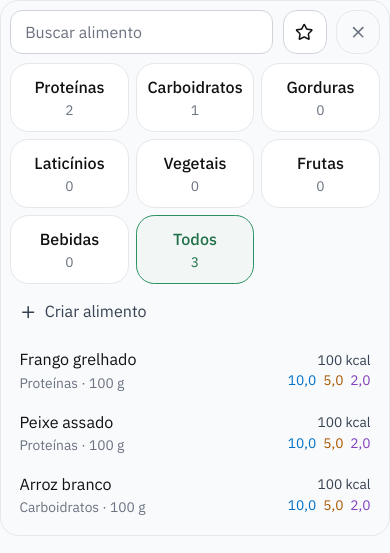
FoodPicker — cartões de categoria › contam por categoria, marcam a escolhida, e Todos volta
Expected: the search field named "Buscar alimento para adicionar" is enabled, top-left (10, 10), bottom-right (274, 54)
Expected: the button "Todos 3" is shown, top-left (136, 215), bottom-right (254, 284)
What coordinates should you click on to do the following:
click the button "Proteínas 2"
I would click on:
 (70, 98)
Its box is top-left (10, 63), bottom-right (129, 132).
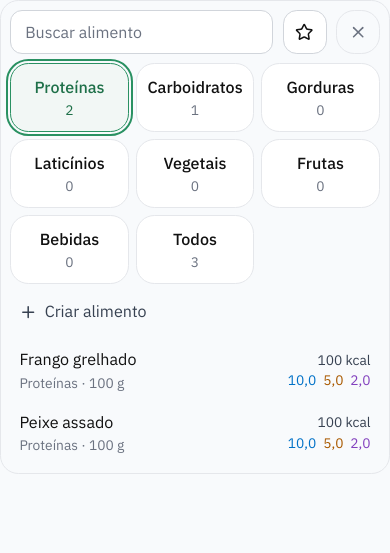
Now the button "Arroz branco" is gone
What coordinates should you click on to do the following:
click the button "Todos 3"
I would click on:
 (195, 250)
Its box is top-left (136, 215), bottom-right (254, 284).
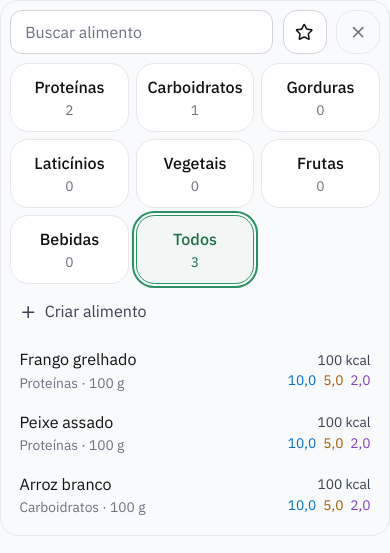
Now the button "Arroz branco Carboidratos · 100 g 100 kcal 10,0 5,0 2,0" is shown, box top-left (10, 463), bottom-right (380, 525)
